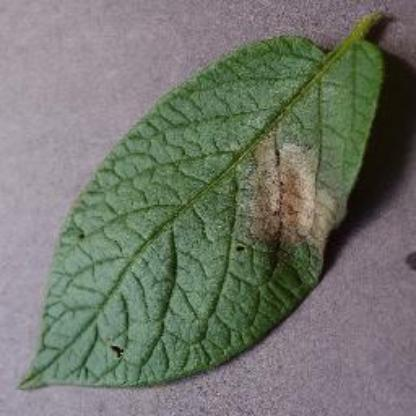Late-Blight: (7, 10, 388, 392)
